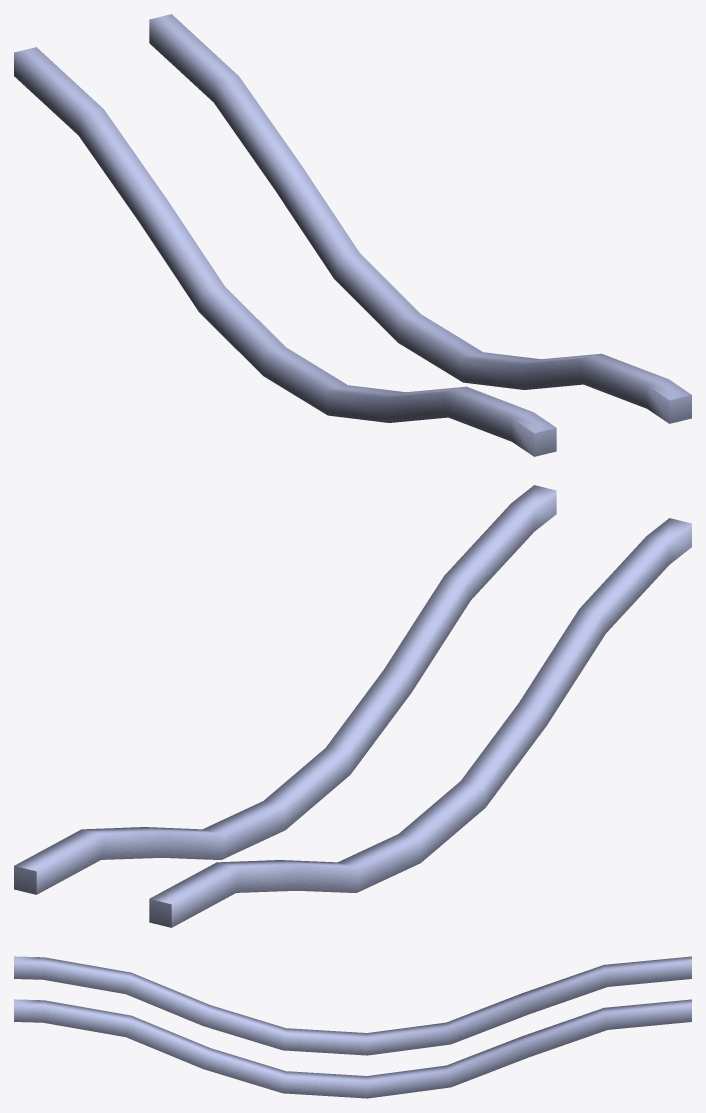
Rendered from railroad-rail-straight-bump-down.glb.
3 renders of one model, top to bottom at view 1: azimuth 30°, elevation 25°; view 2: azimuth 150°, elevation 25°; view 3: azimuth 270°, elevation 25°, orthographic. The views are drawn at different scales.
Visible parts, largest first — view 1: railroad-rail-straight-bump-down; view 2: railroad-rail-straight-bump-down; view 3: railroad-rail-straight-bump-down.
Boxes of the visible parts, x1=… form: railroad-rail-straight-bump-down: x1=14, y1=14, x2=691, y2=456; railroad-rail-straight-bump-down: x1=14, y1=485, x2=691, y2=927; railroad-rail-straight-bump-down: x1=14, y1=956, x2=691, y2=1098.
Bounding box in the file's own units: 0.7 × 0.5987 × 4.
1 material, 1 textured.
